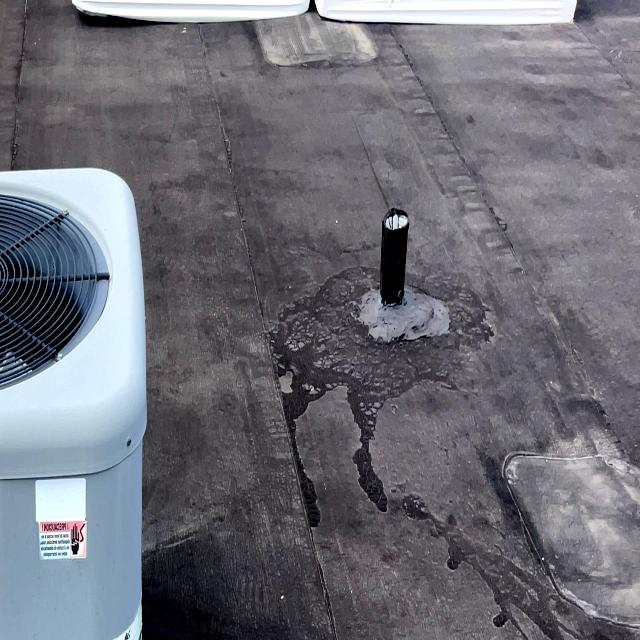SPLIT-SYSTEM: (0, 172, 144, 640)
